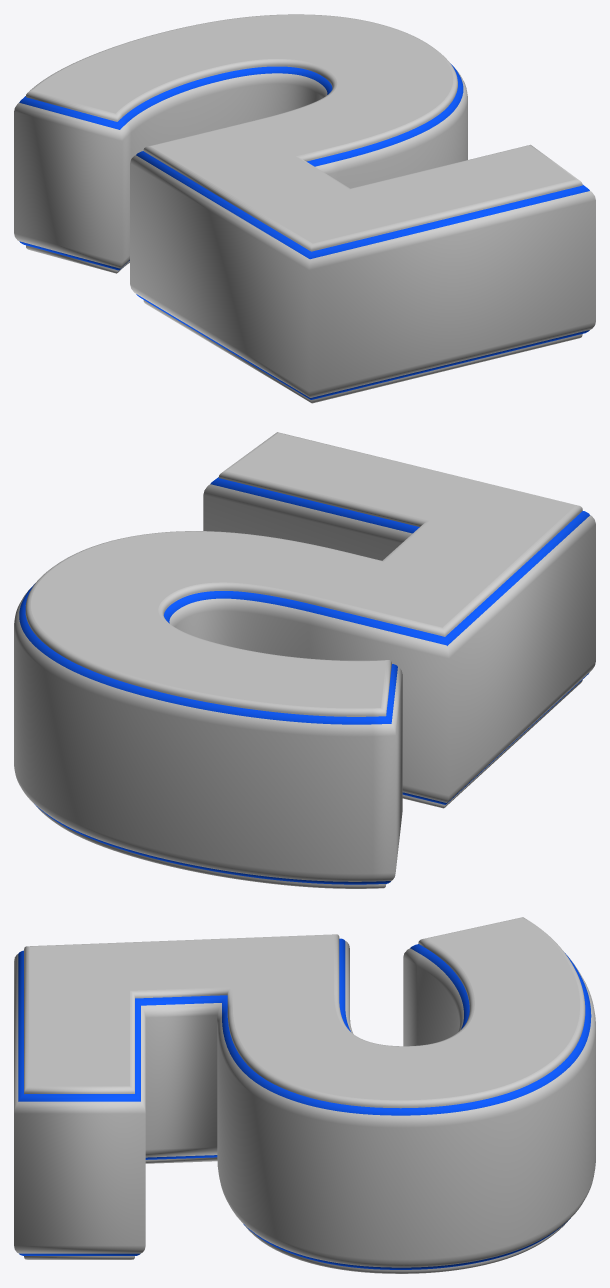
Rendered from Five.fbx.
The picture shows the model from 3 angles, top to bottom: view 1: azimuth 30°, elevation 25°; view 2: azimuth 150°, elevation 25°; view 3: azimuth 270°, elevation 25°; orthographic projection. The views are drawn at different scales.
Parts seen in each view (by area): view 1: N_5_side, N_5_smaller, N_5_border; view 2: N_5_side, N_5_smaller, N_5_border; view 3: N_5_side, N_5_smaller, N_5_border.
Boxes of the visible parts, <box> form: N_5_side: <box>14,67,595,397</box>; N_5_smaller: <box>26,14,582,403</box>; N_5_border: <box>19,63,589,399</box>; N_5_side: <box>14,484,595,881</box>; N_5_smaller: <box>25,432,582,888</box>; N_5_border: <box>19,477,589,884</box>; N_5_side: <box>14,941,595,1267</box>; N_5_smaller: <box>24,917,585,1273</box>; N_5_border: <box>18,938,591,1269</box>.
Bounding box in the file's own units: 0.4502 × 0.184 × 0.5606.
